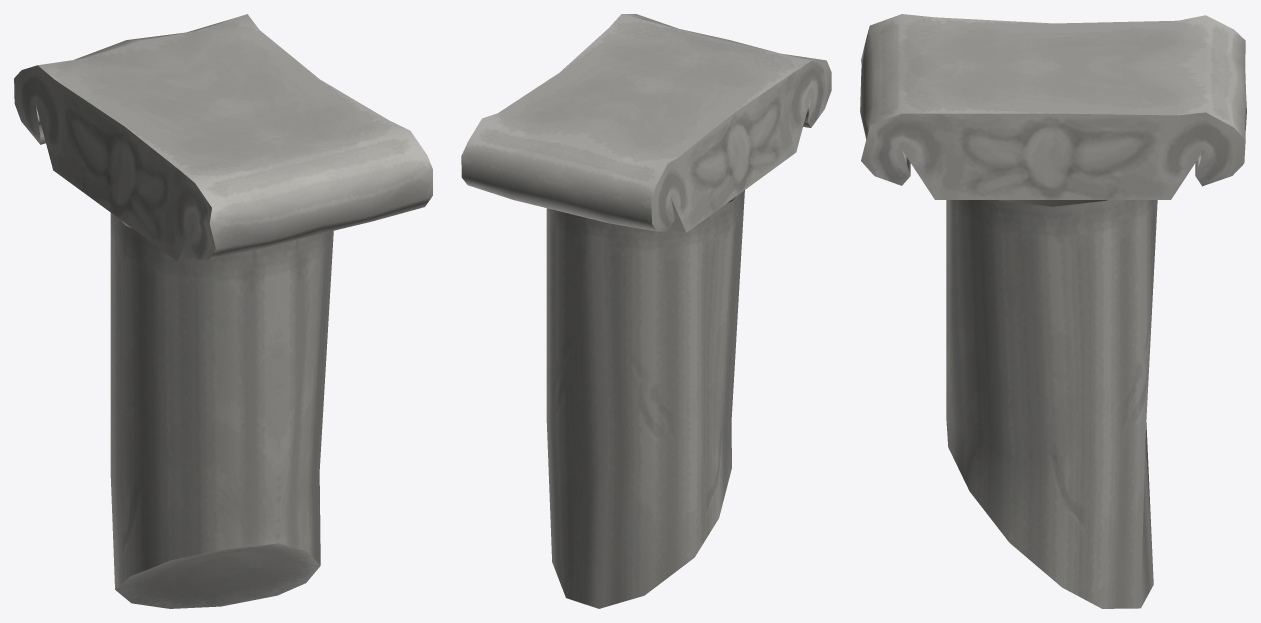
Rendered from MarblePillarHalf02Geo.fbx.
3 renders of one model, left to right at view 1: azimuth 30°, elevation 25°; view 2: azimuth 150°, elevation 25°; view 3: azimuth 270°, elevation 25°, orthographic. The views are drawn at different scales.
Visible parts, largest first — view 1: MarblePillarHalf02_Geo; view 2: MarblePillarHalf02_Geo; view 3: MarblePillarHalf02_Geo.
Part boxes in pixels (left/top/right/bottom): MarblePillarHalf02_Geo: left=14, top=14, right=432, bottom=608; MarblePillarHalf02_Geo: left=461, top=14, right=831, bottom=608; MarblePillarHalf02_Geo: left=860, top=14, right=1246, bottom=608.
Size of the model in its own units: 30.11 by 71.24 by 47.67.
